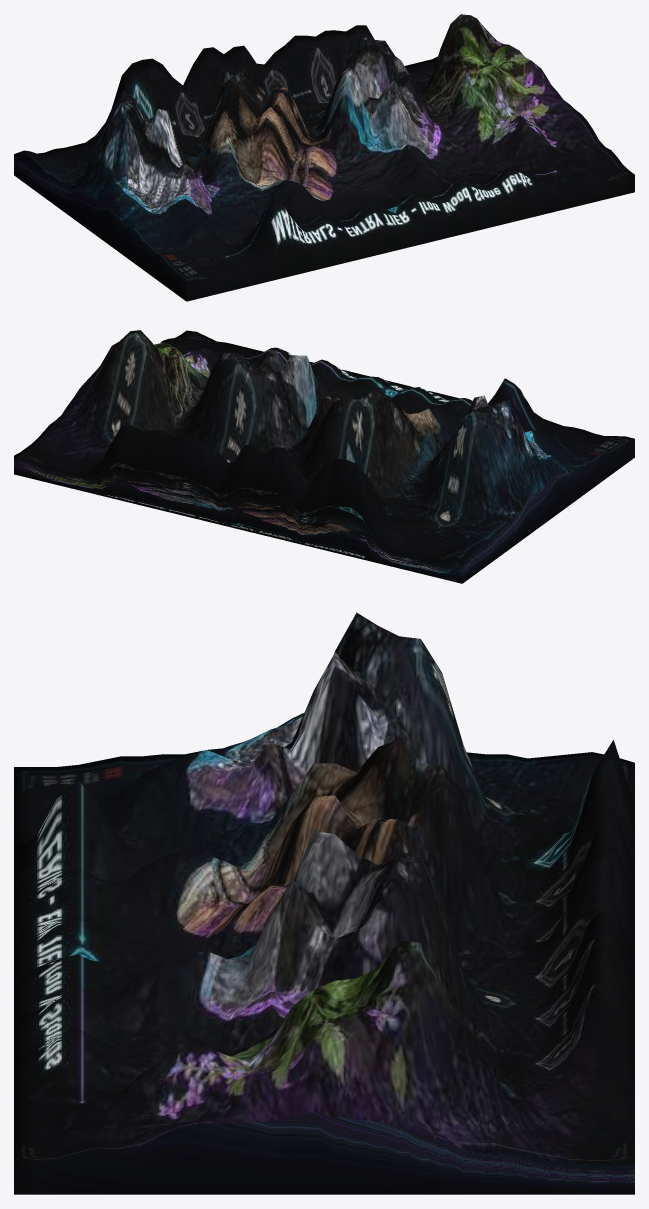
File: MATERIAL_Entry_Tier.glb
3 views of the same model, one above another, from view 1: azimuth 30°, elevation 25°; view 2: azimuth 150°, elevation 25°; view 3: azimuth 270°, elevation 25° (orthographic). The views are drawn at different scales.
Parts seen in each view (by area): view 1: MATERIAL_Entry_Tier; view 2: MATERIAL_Entry_Tier; view 3: MATERIAL_Entry_Tier.
Boxes of the visible parts, box(x1,y1,x2,y2) form: MATERIAL_Entry_Tier: box(14, 14, 634, 301); MATERIAL_Entry_Tier: box(14, 330, 634, 583); MATERIAL_Entry_Tier: box(14, 612, 634, 1194).
Size of the model in its own units: 2 by 0.51 by 1.33.
1 material, 1 textured.
